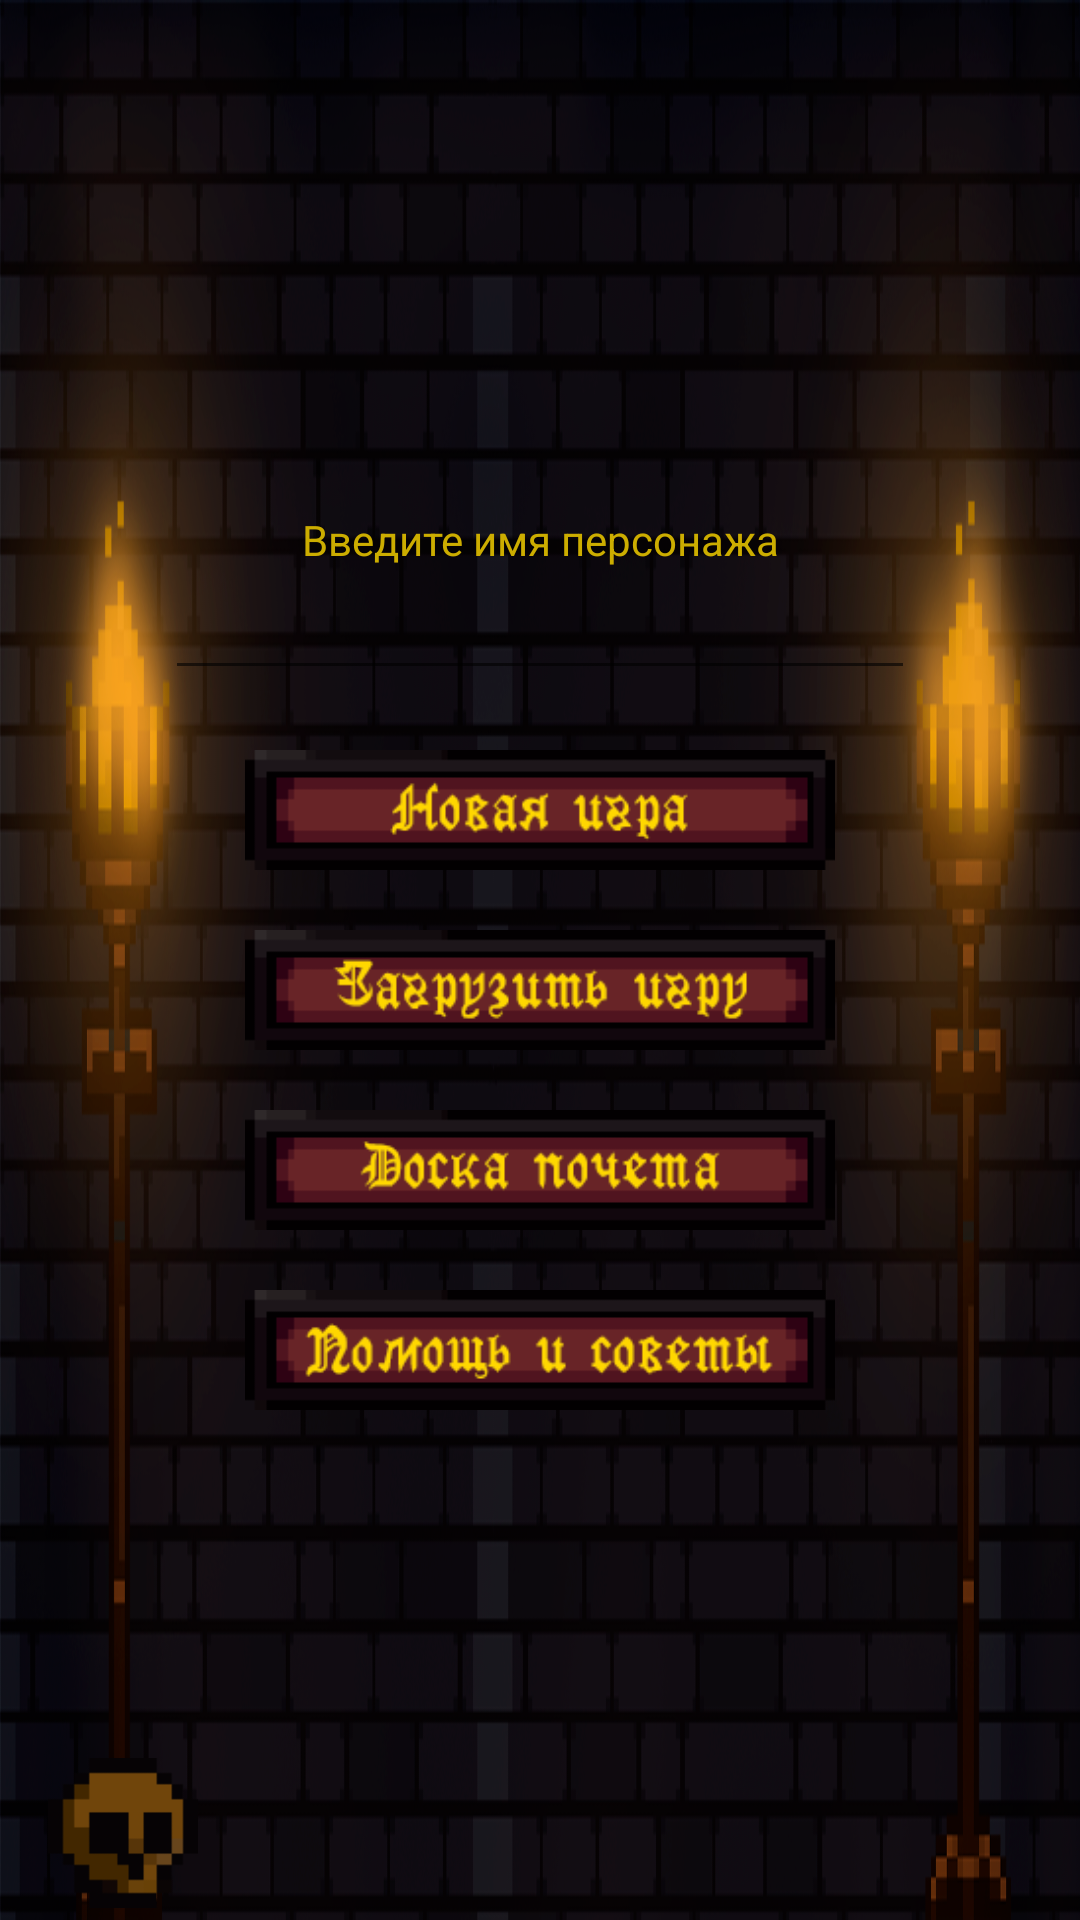

Icons on this 1080*1920 Android screen, each with the point to tap as (x,y):
skull: (123,1836)
